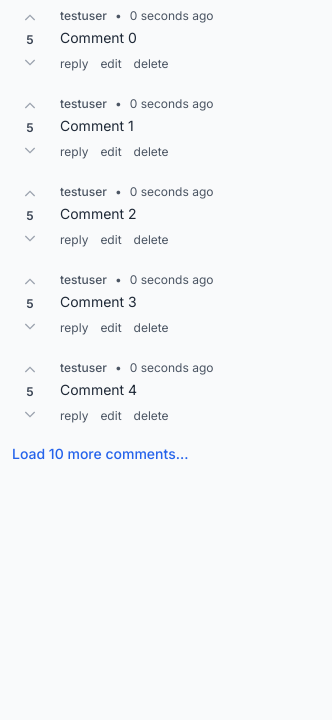
Test case: CommentThread › Pagination - Requirement 22.2 › should load more comments when "Load more" button is clicked
The image size is (332, 720).
expect the text "Comment 0" is shown: met, box x1=60 y1=29 x2=137 y2=46
# Click load more
Click the button "Load 10 more comments..." at (100, 454), box x1=12 y1=444 x2=188 y2=464
(page scrolled)
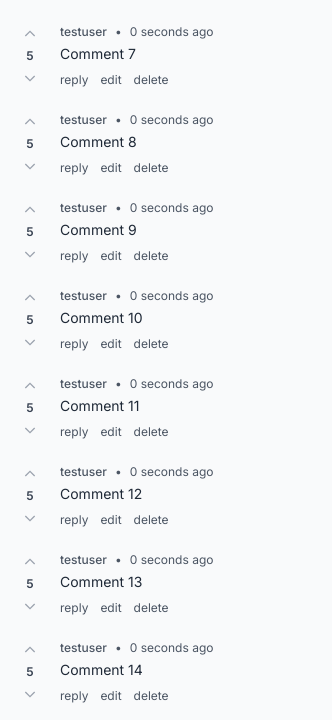
expect the text "Comment 14" is shown: met, box x1=60 y1=661 x2=143 y2=678
expect the button "Load 10 more comments..." is gone: met
